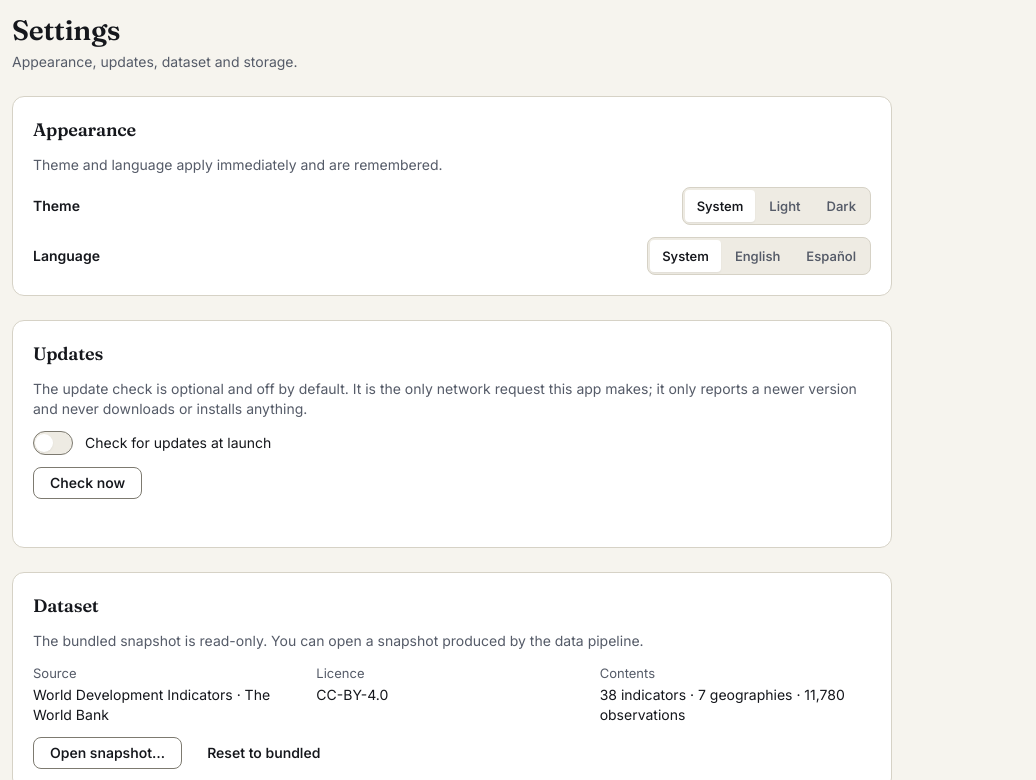
Test: SettingsPage › resets to the bundled snapshot
Expected: the switch named "Check for updates at launch" is shown, [33,431,73,455]
Click the button "Reset to bundled". click: (264, 753)
box: [190,737,337,769]
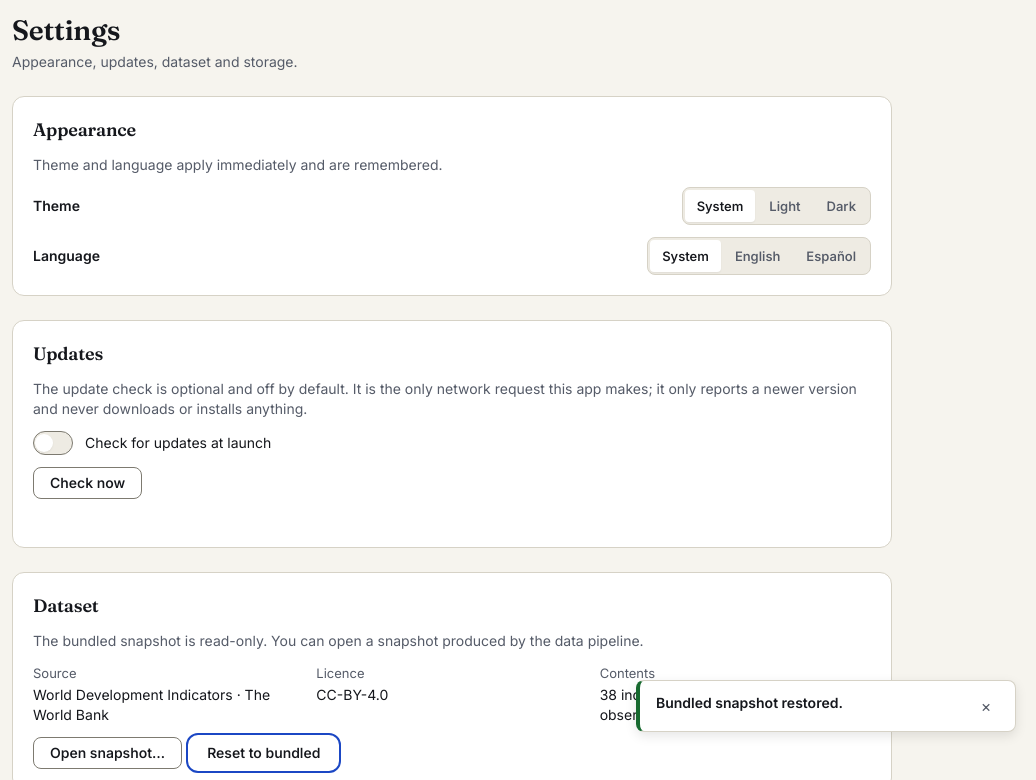
Now the text "Bundled snapshot restored." is shown, box [656,693,843,713]
